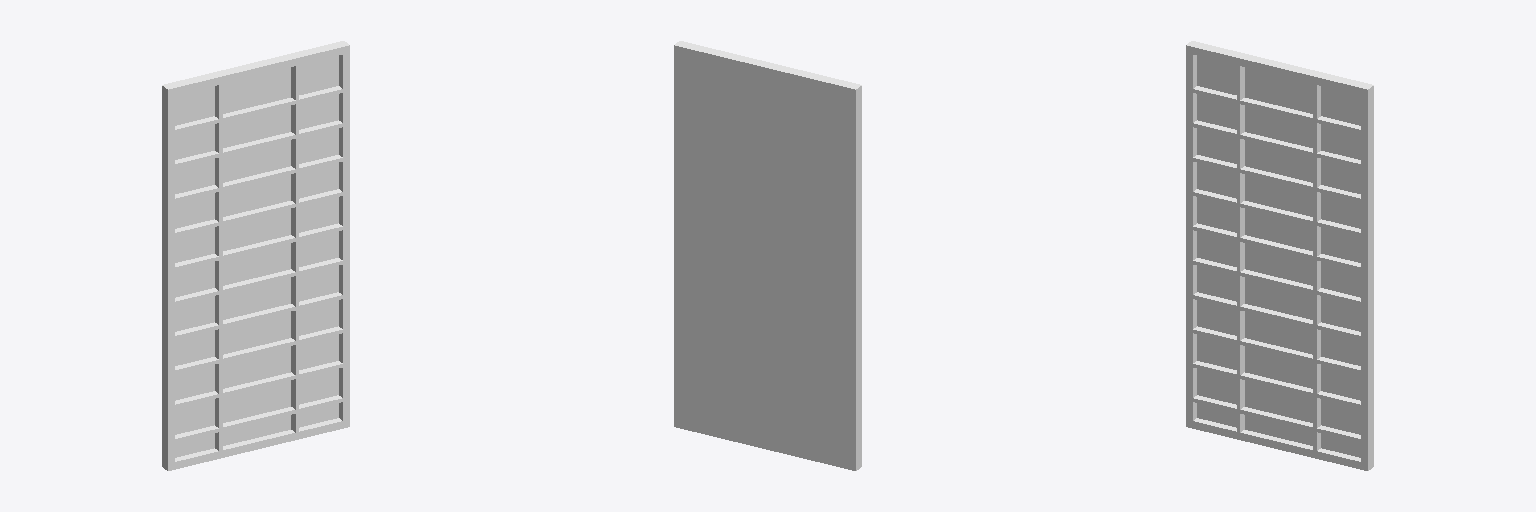
The model's file is wallMain-3.obj.
3 renders of one model, left to right at view 1: azimuth 30°, elevation 25°; view 2: azimuth 150°, elevation 25°; view 3: azimuth 330°, elevation 25°, orthographic.
Visible parts, largest first — view 1: object 1; view 2: object 1; view 3: object 1.
Boxes of the visible parts, <box> form: object 1: <box>162,41,349,470</box>; object 1: <box>674,41,861,470</box>; object 1: <box>1186,41,1373,470</box>.
Size of the model in its own units: 5 by 10 by 0.3.